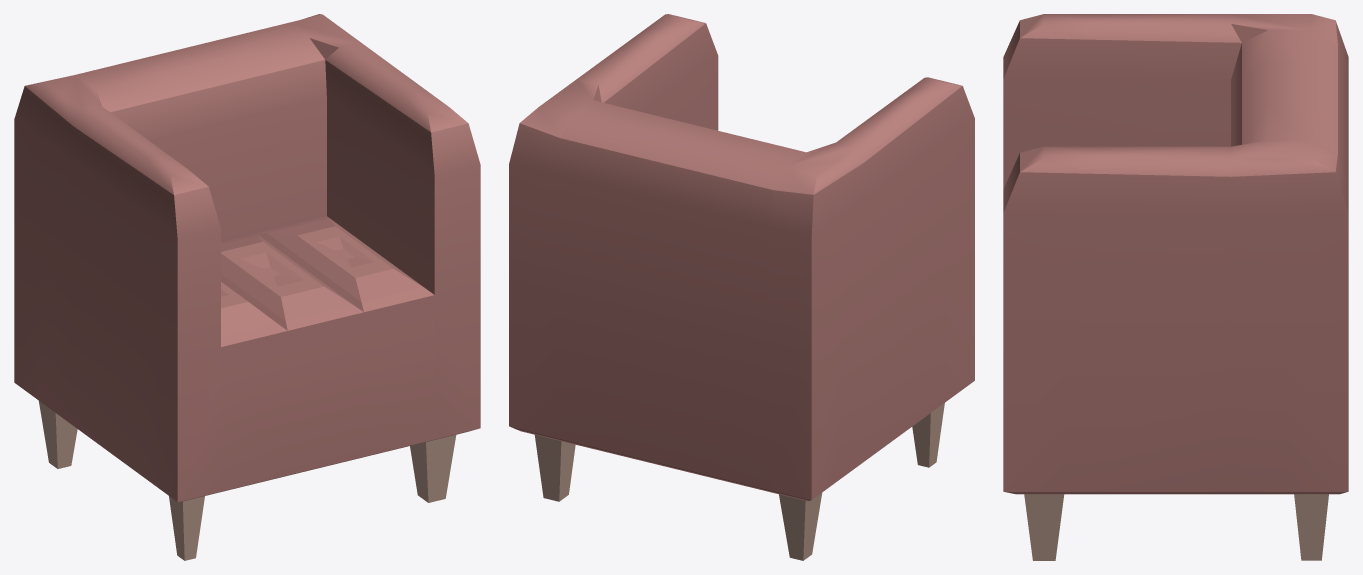
Rendered from armchair.fbx.
The picture shows the model from 3 angles, left to right: view 1: azimuth 30°, elevation 25°; view 2: azimuth 150°, elevation 25°; view 3: azimuth 270°, elevation 25°; orthographic projection. The views are drawn at different scales.
Visible parts, largest first — view 1: pCube49; view 2: pCube49; view 3: pCube49.
Boxes of the visible parts, x1,y1,x2,y2 form: pCube49: (14,14,480,560); pCube49: (509,14,974,560); pCube49: (1003,14,1348,560).
Bounding box in the file's own units: 0.8654 × 1.05 × 0.8084.
